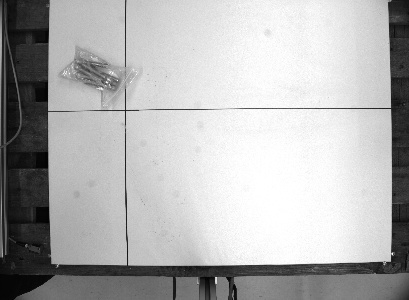t2: (53, 43, 149, 108)
